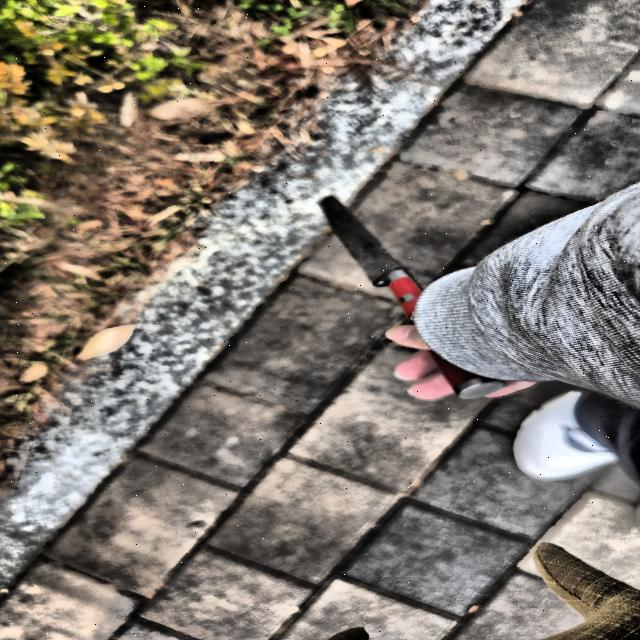knife: (314, 190, 504, 402)
